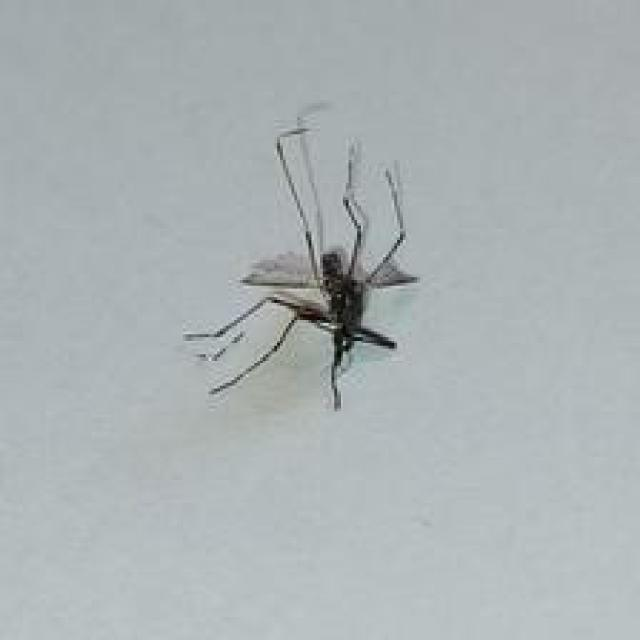Aedes albopictus: (183, 111, 420, 412)
